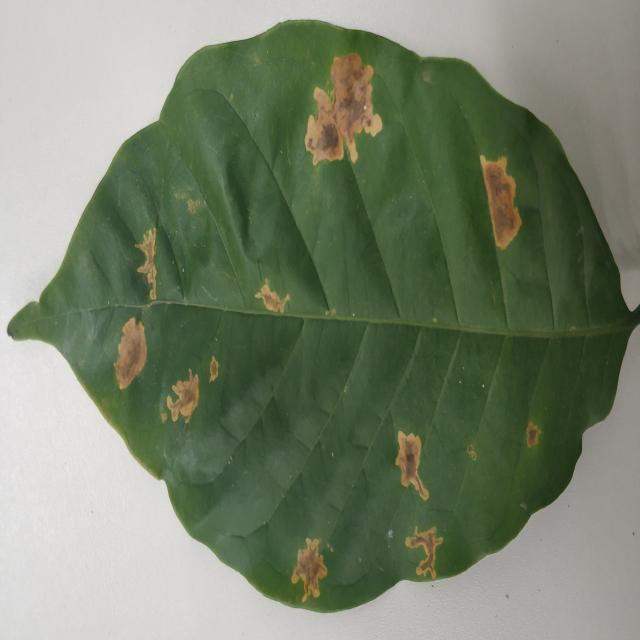Plaga-Minador: (7, 19, 639, 616)
